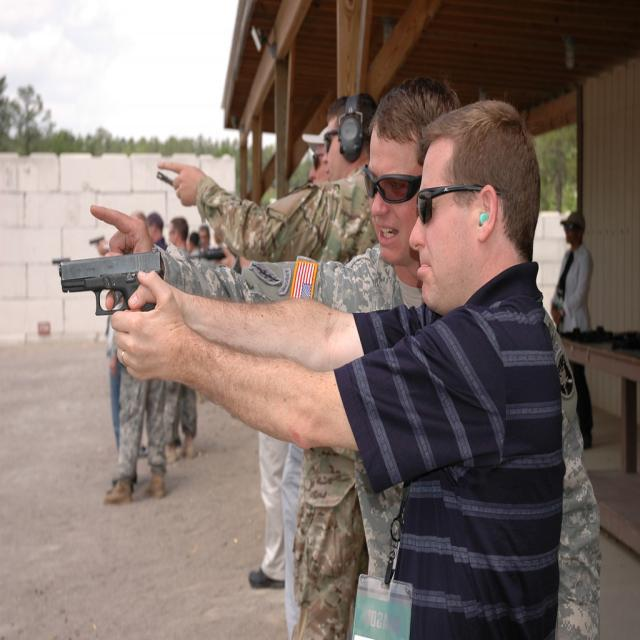weapon: (51, 233, 194, 325), (189, 244, 238, 258)
